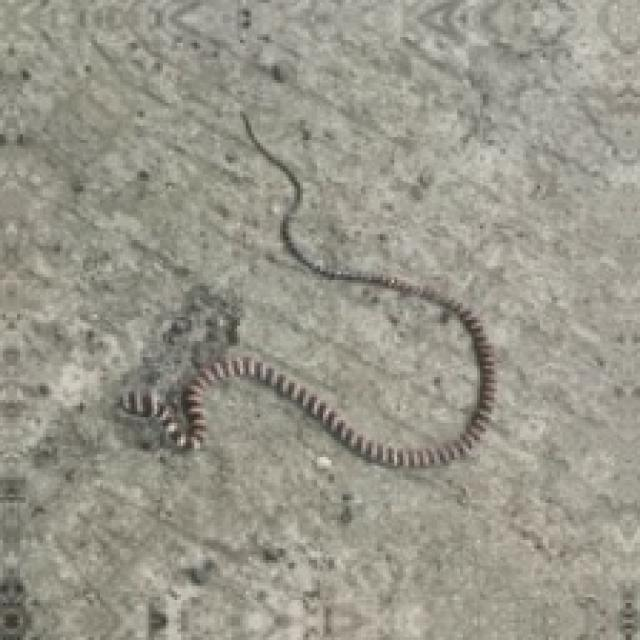paradise tree snake: (123, 111, 494, 466)
